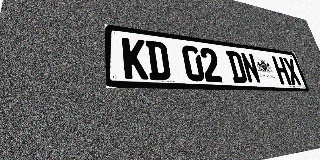0: (181, 45, 205, 82)
2: (199, 47, 223, 82)
D: (145, 40, 171, 80), (225, 50, 248, 83)
H: (271, 56, 292, 85)
K: (122, 37, 149, 80)
N: (240, 52, 262, 84)
X: (282, 57, 302, 85)
